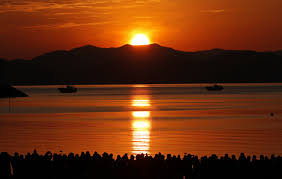lake: (7, 86, 282, 157)
mountain: (8, 54, 282, 85)
sky: (1, 3, 282, 54)
